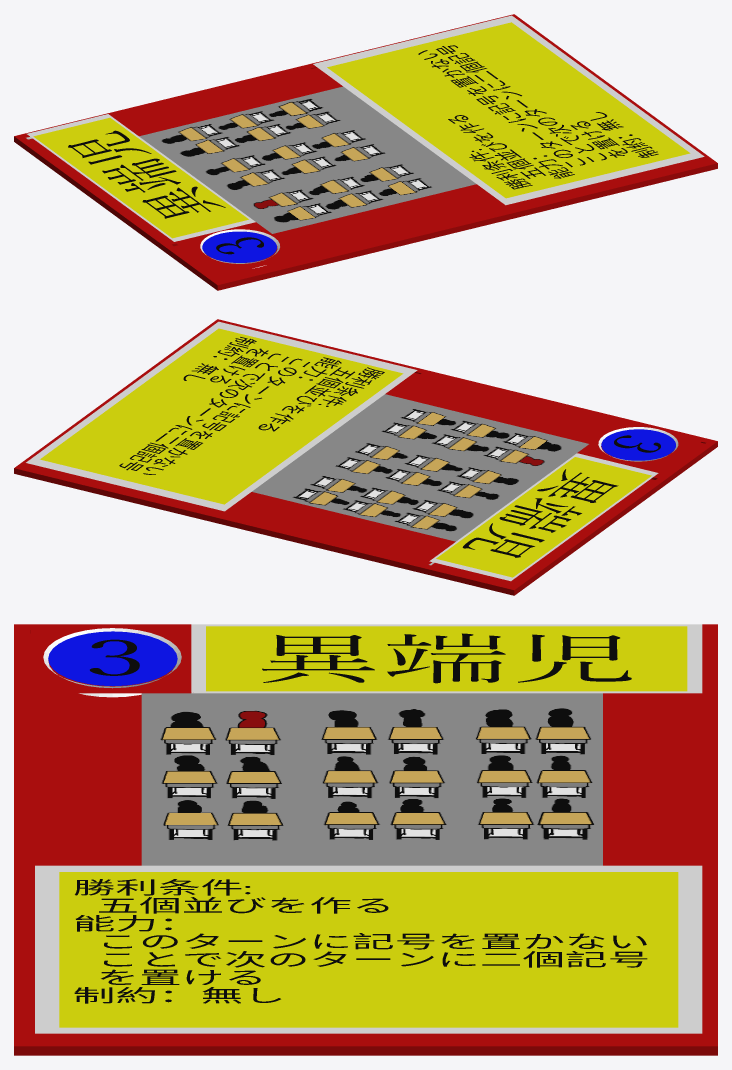
Rendered from 異端児赤.fbx.
3 renders of one model, top to bottom at view 1: azimuth 30°, elevation 25°; view 2: azimuth 150°, elevation 25°; view 3: azimuth 270°, elevation 25°, orthographic. The views are drawn at different scales.
Visible parts, largest first — view 1: 説明欄, 平面.001, カード本体.001, 名前欄, 説明文, 名前, 円, 平面; view 2: 説明欄, 平面.001, カード本体.001, 名前欄, 説明文, 名前, 円, 平面; view 3: 説明欄, 平面.001, カード本体.001, 名前欄, 説明文, 名前, 円, 平面, コスト蘭.
Boxes of the visible parts, box(x1,y1,x2,y2) form: 説明欄: box(313, 15, 704, 205); 平面.001: box(139, 86, 476, 233); カード本体.001: box(14, 14, 717, 290); 名前欄: box(27, 114, 255, 241); 説明文: box(418, 45, 658, 189); 名前: box(68, 130, 225, 218); 円: box(202, 231, 276, 262); 平面: box(174, 222, 302, 275); 説明欄: box(26, 321, 417, 511); 平面.001: box(252, 394, 588, 541); カード本体.001: box(14, 319, 717, 595); 名前欄: box(429, 453, 658, 581); 説明文: box(119, 337, 384, 474); 名前: box(462, 469, 618, 557); 円: box(601, 429, 675, 460); 平面: box(577, 419, 704, 472); 説明欄: box(35, 865, 702, 1033); 平面.001: box(141, 693, 602, 865); カード本体.001: box(14, 624, 717, 1055); 名前欄: box(191, 624, 702, 693); 説明文: box(74, 879, 647, 1003); 名前: box(262, 633, 631, 683); 円: box(48, 631, 177, 686); 平面: box(30, 624, 191, 693); コスト蘭: box(43, 628, 181, 697).
Bounding box in the file's own units: 281 × 6.07 × 198.
